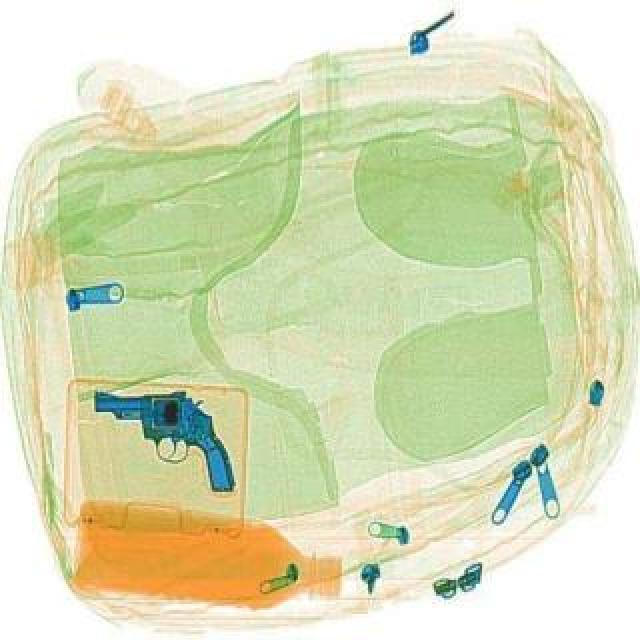gun: (90, 384, 234, 492)
